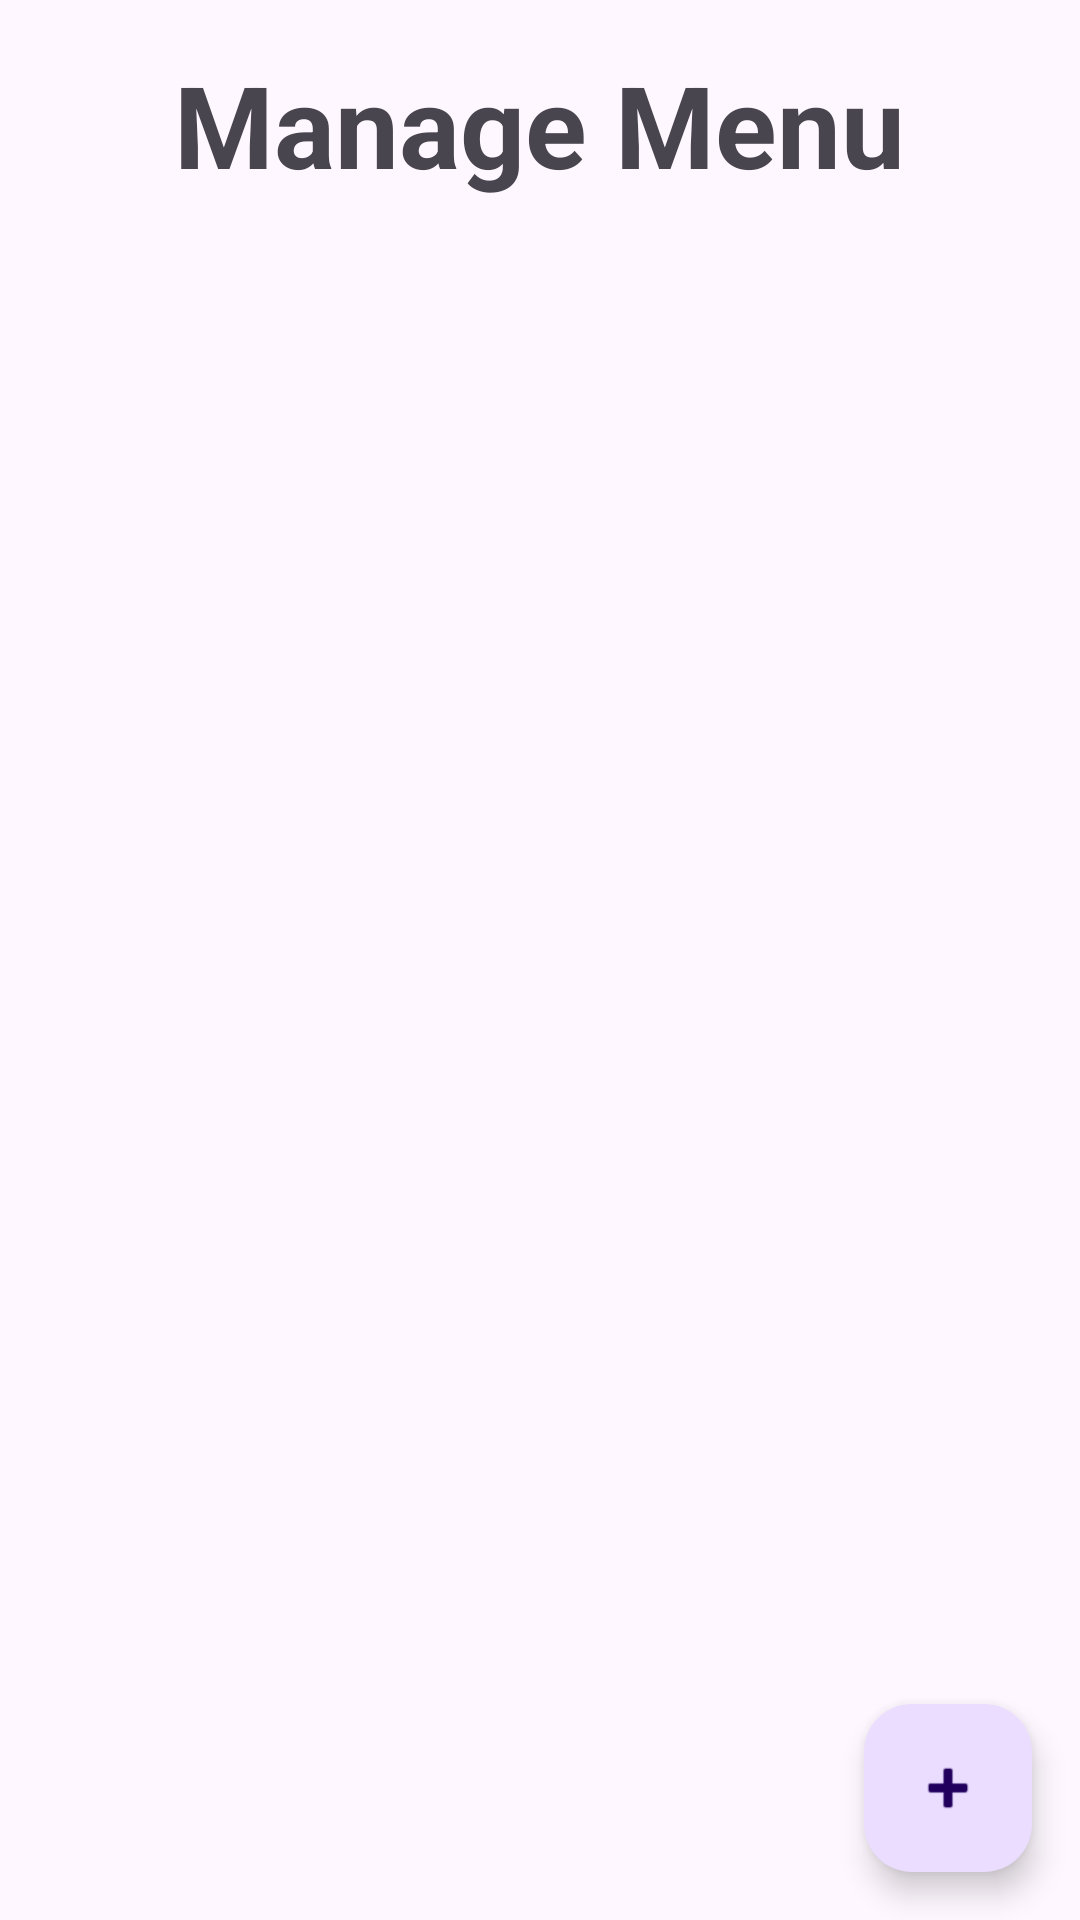

Where icons sit on this 1080w x 1920h app screen, as (x1, y1, x2, y2):
Add Menu Item: (864, 1704, 1032, 1872)
